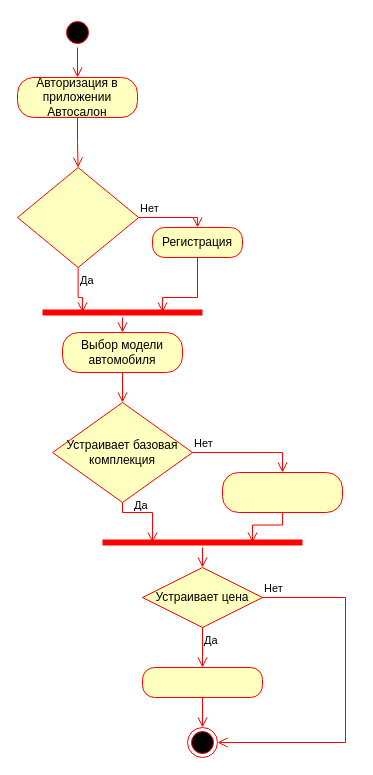
This 373x775 diagram has some shape labels left out. Each missing label, with the box of its shape:
Внесение корректировок: (222, 472, 342, 512)
Зарегистрирован: (16, 166, 139, 268)
Оплата: (142, 666, 262, 698)
